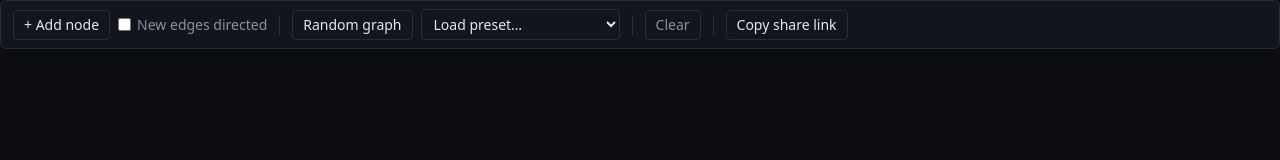
Scenario: GraphToolbar › copies a share link to the clipboard
The image size is (1280, 160).
Click the button "Copy share link" at [786, 24], box left=726, top=10, right=848, bottom=40
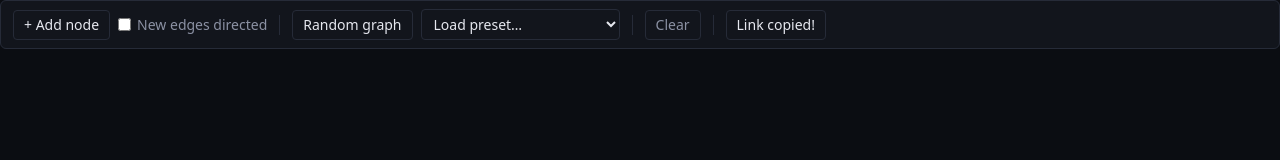
Check: the button "Link copied!" is shown, box left=726, top=10, right=826, bottom=40
